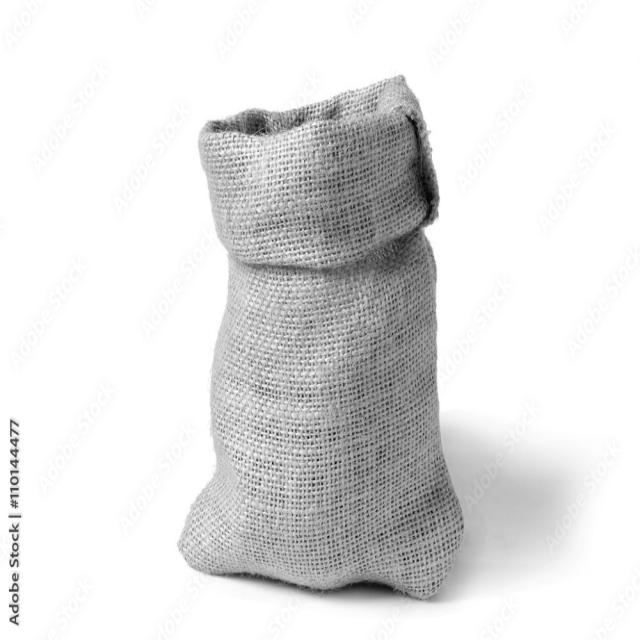sack: (177, 74, 464, 601)
